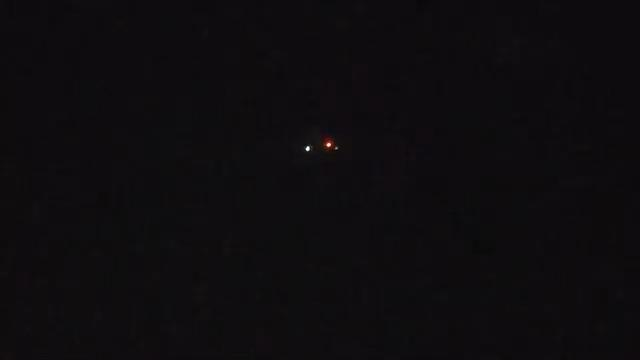Plane: (289, 133, 357, 160)
